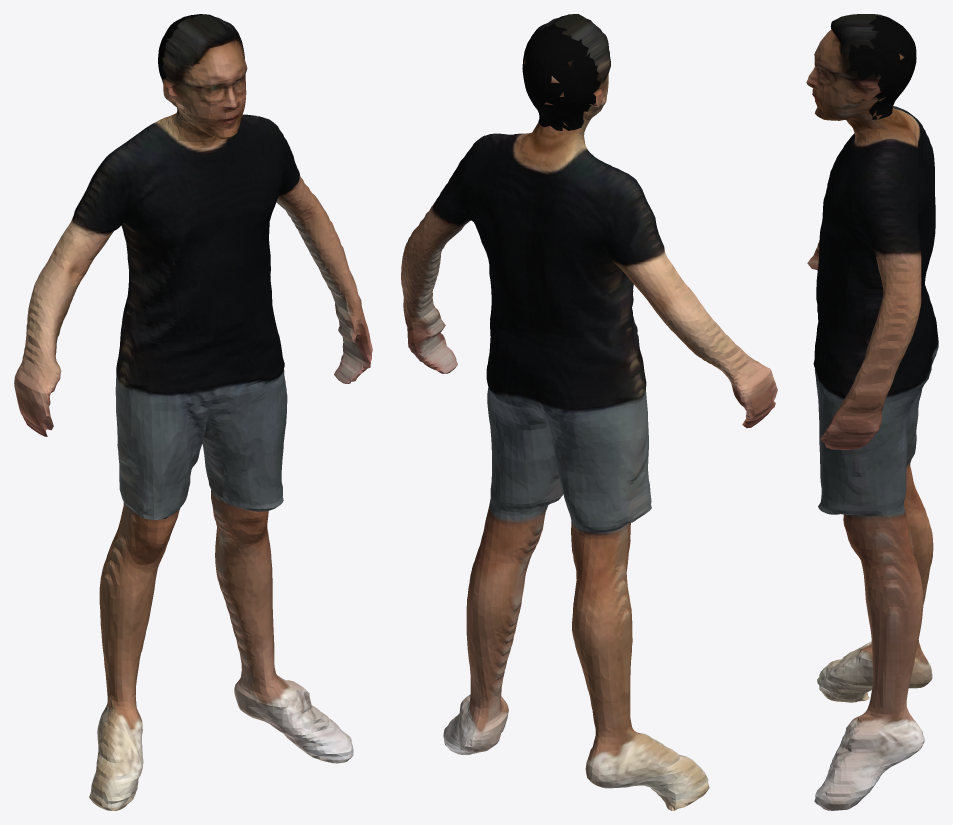
3 views of the same model, side by side, from view 1: azimuth 30°, elevation 25°; view 2: azimuth 150°, elevation 25°; view 3: azimuth 270°, elevation 25° (orthographic). The views are drawn at different scales.
Visible parts, largest first — view 1: result_IMG_1692-removebg-preview_256; view 2: result_IMG_1692-removebg-preview_256; view 3: result_IMG_1692-removebg-preview_256.
Boxes of the visible parts, left/top/right/bottom form: result_IMG_1692-removebg-preview_256: left=14, top=14, right=372, bottom=810; result_IMG_1692-removebg-preview_256: left=401, top=14, right=777, bottom=810; result_IMG_1692-removebg-preview_256: left=806, top=14, right=938, bottom=810.
Size of the model in its own units: 0.813 by 1.72 by 0.2808.
Materials: 3 (1 with a texture image).
